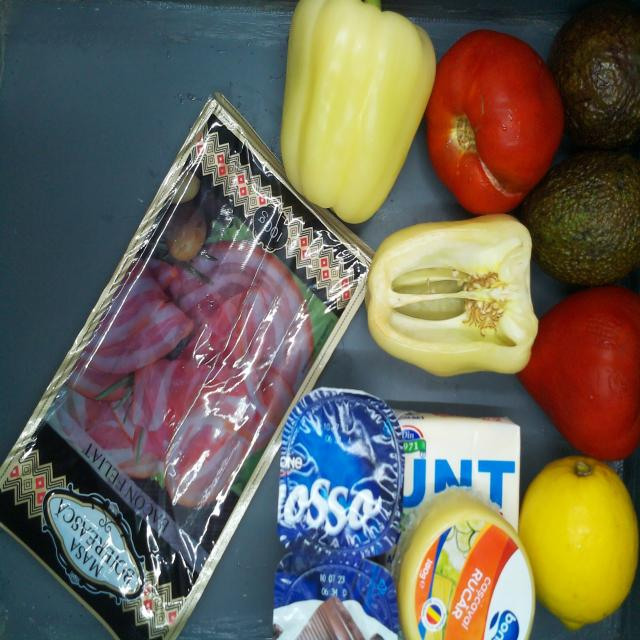avocado: (541, 157, 639, 285), (563, 35, 637, 147)
bacon: (0, 104, 333, 640), (366, 214, 535, 376)
butter: (404, 414, 521, 594)
cheese: (406, 499, 534, 640)
lemon: (524, 460, 639, 626)
pepper: (280, 0, 436, 222)
tomatoes: (434, 35, 564, 212), (544, 288, 638, 457)
yogurt: (282, 392, 401, 560), (278, 557, 399, 640)
